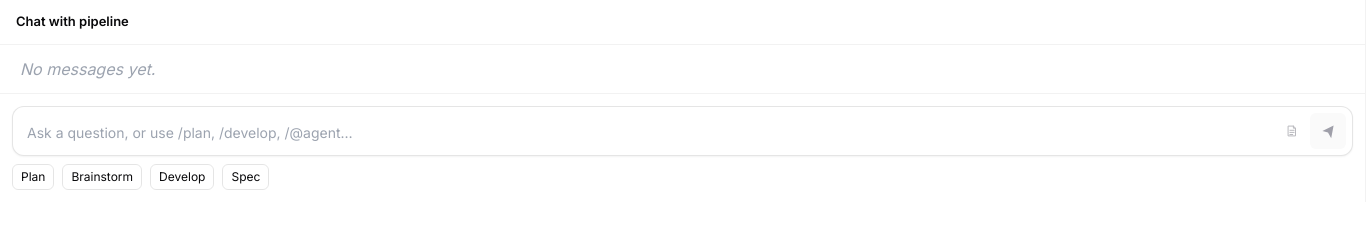
Scenario: ChatPane › surfaces start_ticket_run pre-flight errors as system messages without 'Command failed:' prefix
The image size is (1366, 251).
Type "/plan #42 do thing" into the text box with test id "chat-input" at (644, 132), box [19, 116, 1270, 148]
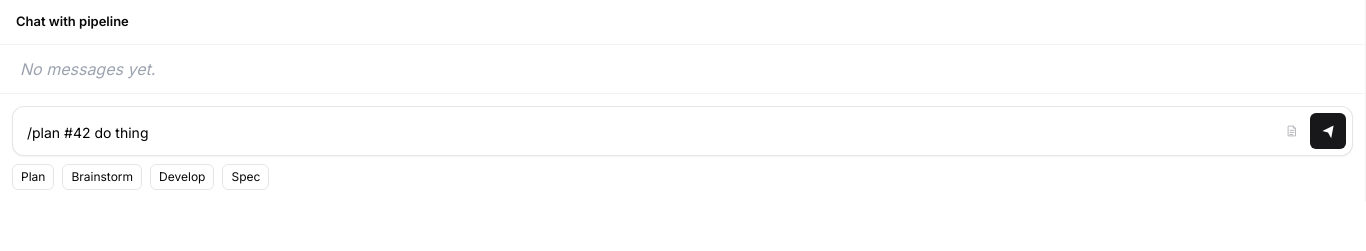
Click the button with test id "chat-send" at (1328, 130), box [1310, 112, 1346, 148]
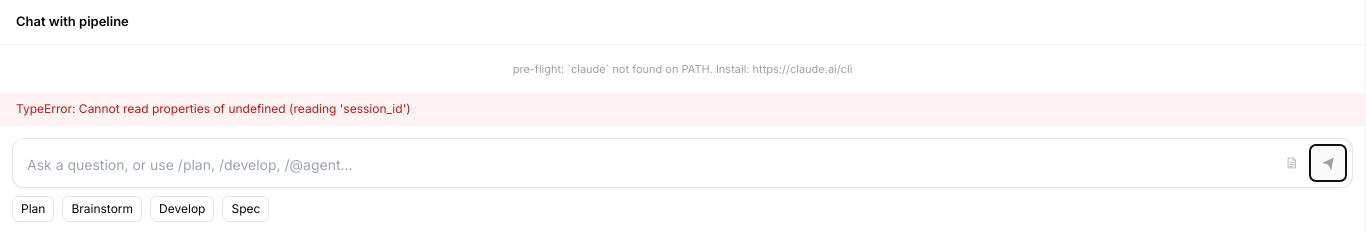
Now the text with test id "chat-message-system" shows "pre-flight:", box [513, 62, 852, 76]
Now the text with test id "chat-message-system" shows "https://claude.ai/cli", box [513, 62, 852, 76]
